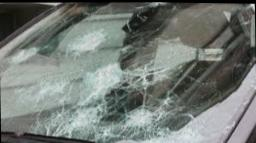Windshield: (1, 1, 256, 143)
